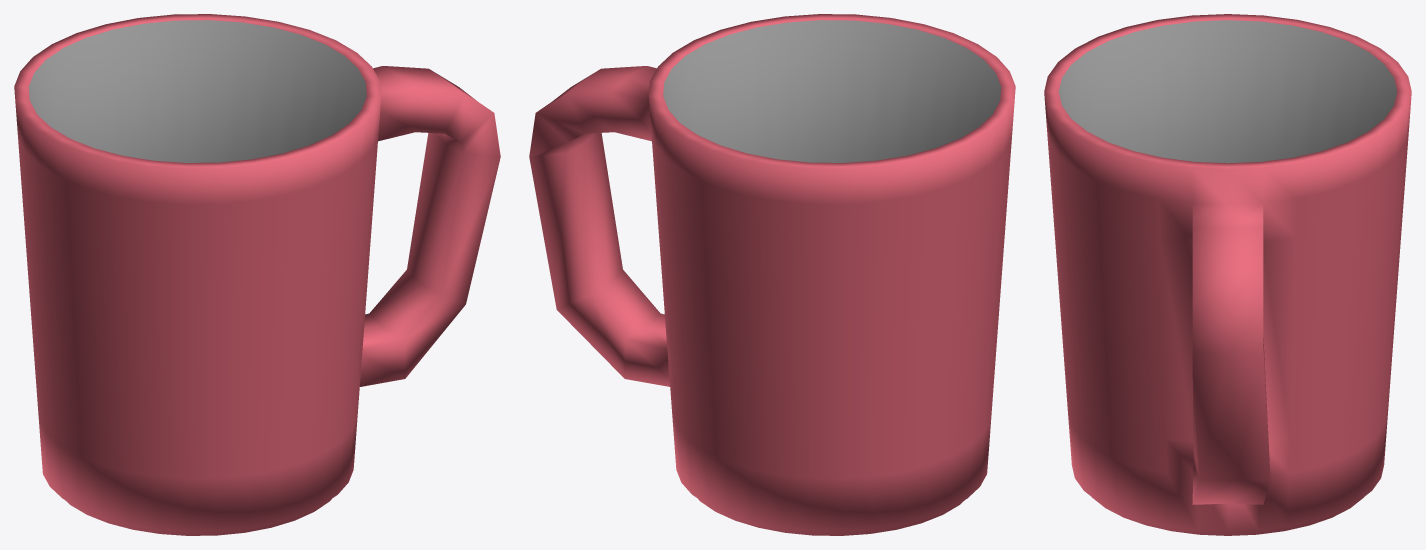
File: taza (2).fbx
The picture shows the model from 3 angles, left to right: view 1: azimuth 30°, elevation 25°; view 2: azimuth 150°, elevation 25°; view 3: azimuth 270°, elevation 25°; orthographic projection.
Parts seen in each view (by area): view 1: Cylinder; view 2: Cylinder; view 3: Cylinder.
Part boxes in pixels (x1,y1,x2,y2): Cylinder: (14,14,500,535); Cylinder: (529,14,1015,535); Cylinder: (1044,14,1411,535).
Bounding box in the file's own units: 358 × 294 × 256.
